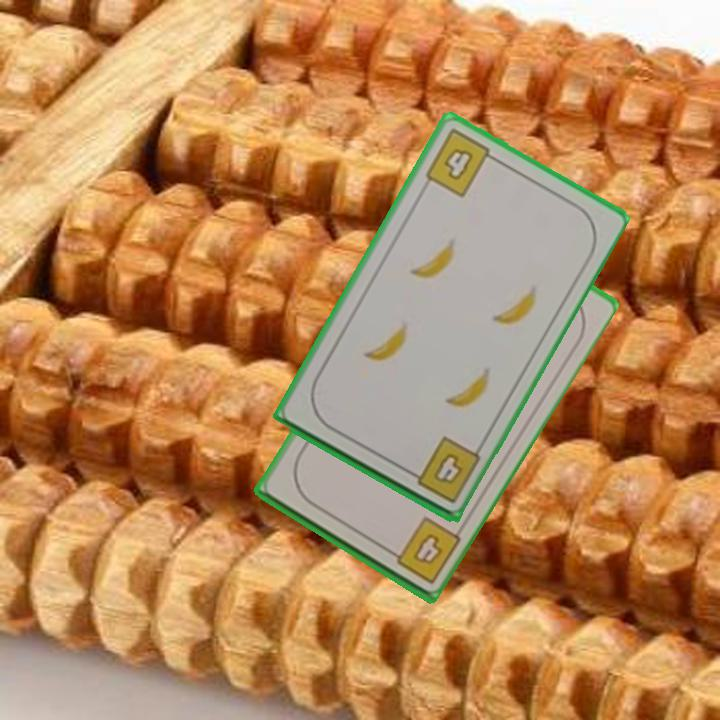4b: (421, 125, 502, 200), (381, 513, 463, 587), (402, 432, 484, 506)
